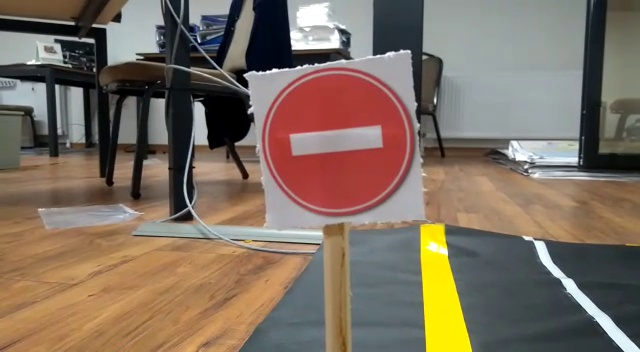girisi_olmayan_yol: (246, 65, 424, 224)
